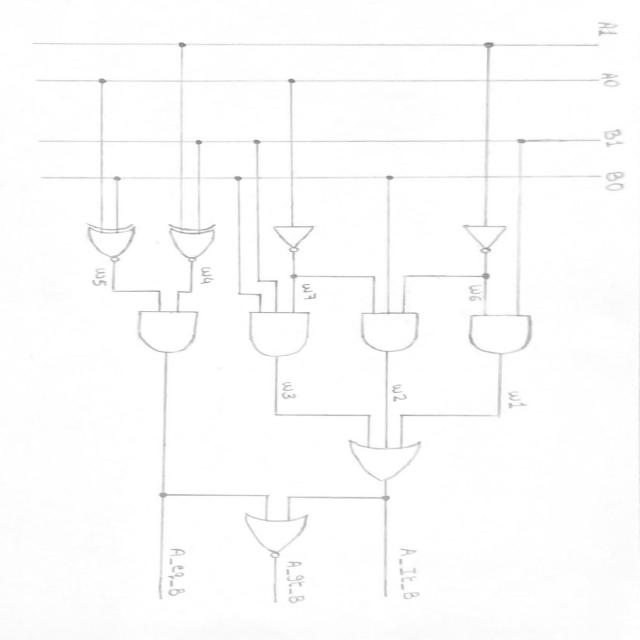AND: (237, 302, 324, 362), (130, 304, 209, 356), (350, 302, 428, 354), (466, 308, 542, 357)
NOR: (227, 508, 318, 563)
NOT: (450, 220, 510, 256), (274, 223, 323, 252)
OR: (334, 432, 441, 486)
XNOR: (80, 216, 142, 262), (165, 220, 224, 266)
